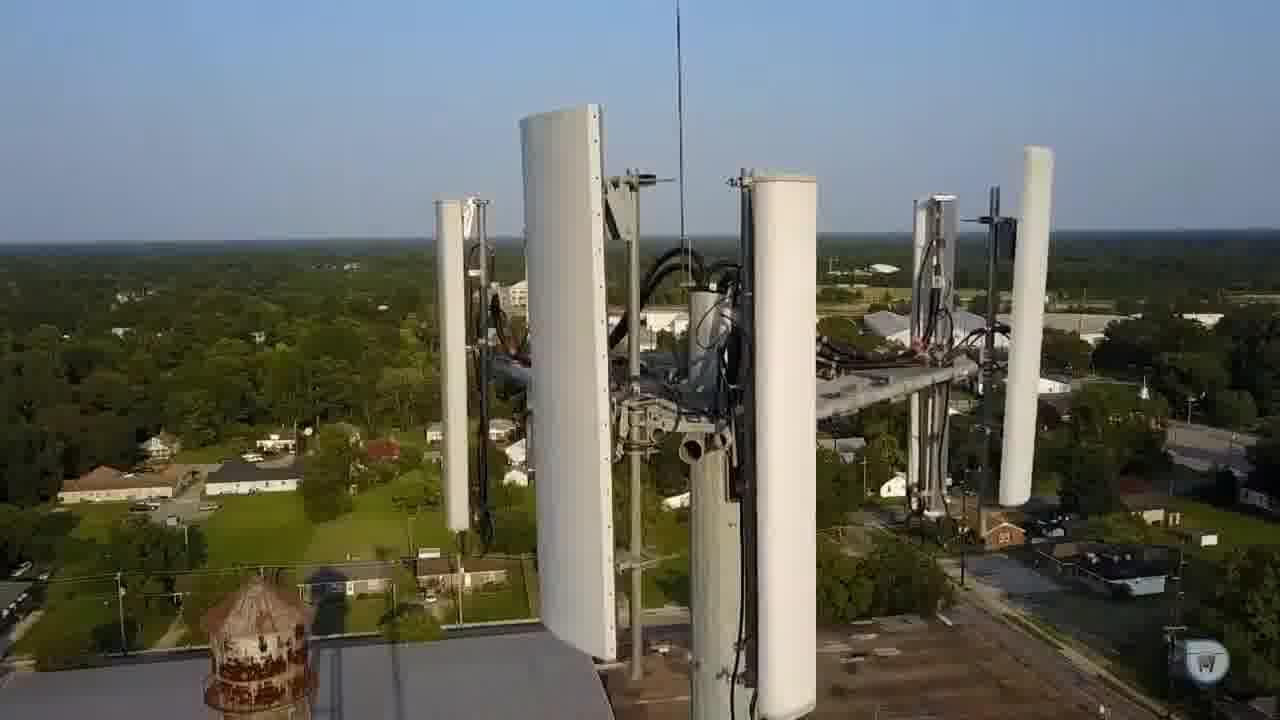antenna: (513, 95, 636, 662), (725, 165, 828, 717), (985, 141, 1052, 505), (433, 189, 487, 529)
